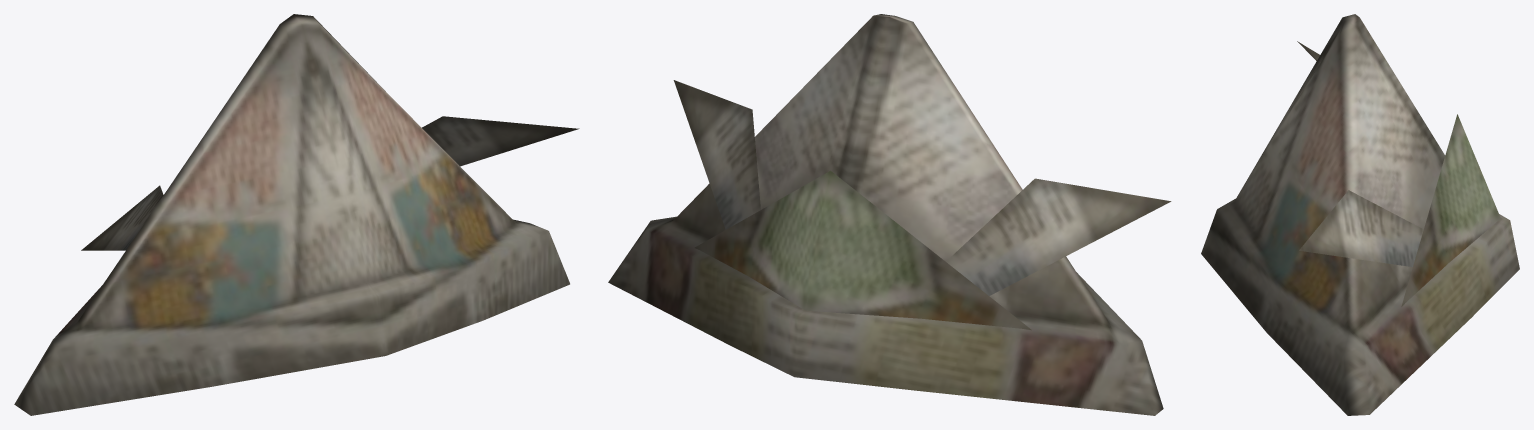
The model's file is paperHat.glb.
3 views of the same model, side by side, from view 1: azimuth 30°, elevation 25°; view 2: azimuth 150°, elevation 25°; view 3: azimuth 270°, elevation 25° (orthographic). The views are drawn at different scales.
Visible parts, largest first — view 1: paperHat; view 2: paperHat; view 3: paperHat.
Boxes of the visible parts, x1,y1,x2,y2 form: paperHat: (14,14,579,415); paperHat: (608,14,1171,415); paperHat: (1201,14,1519,415).
Size of the model in its own units: 0.4932 by 0.285 by 0.2889.
Materials: 1 (1 with a texture image).
